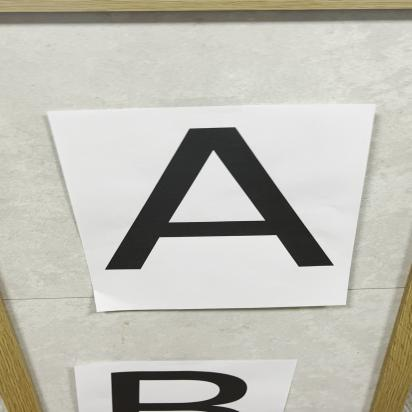seat: (94, 126, 372, 273)
